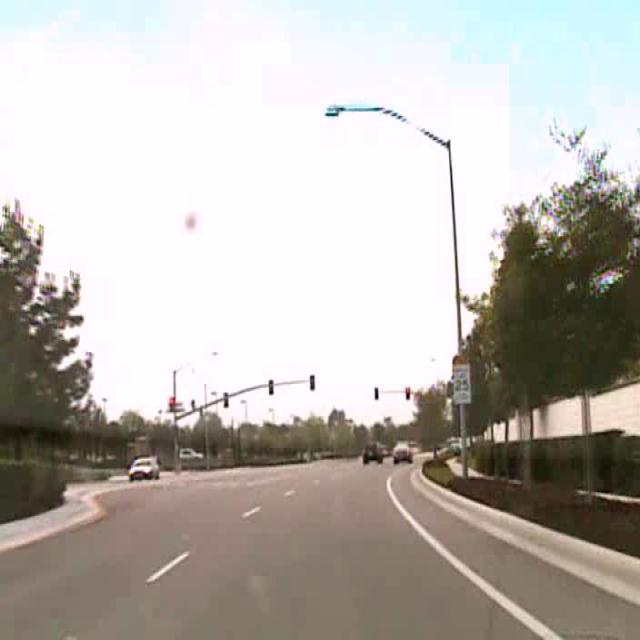speedLimit25: (451, 353, 472, 404)
